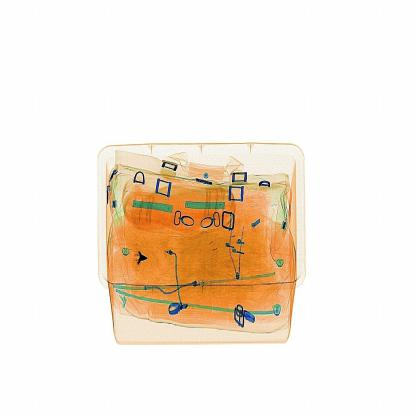gun: (124, 238, 152, 278)
